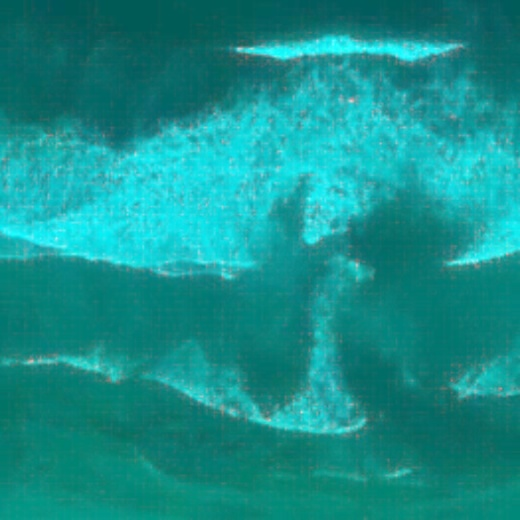rip_current: (193, 143, 339, 413)
